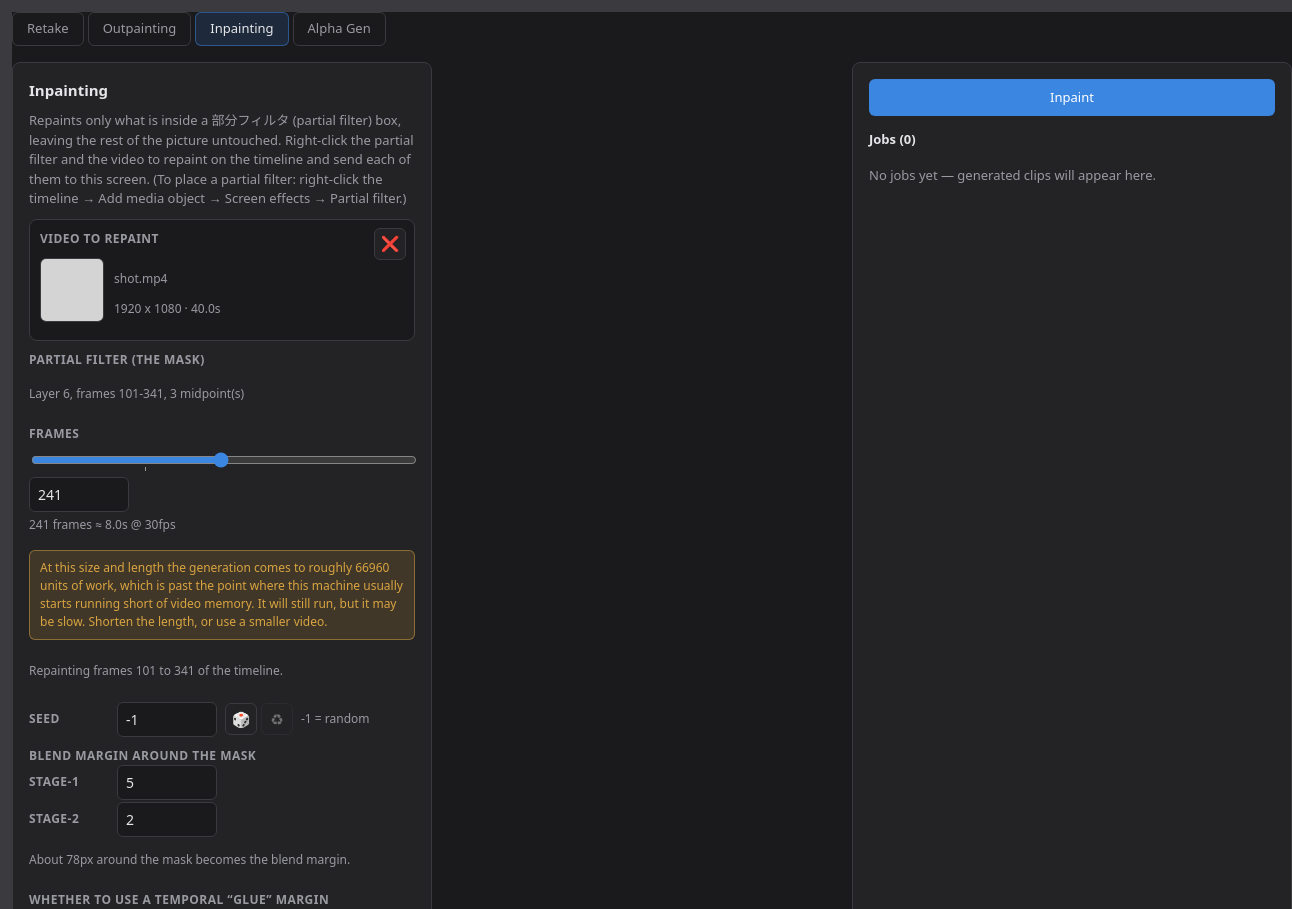
Test: EditScreen — Inpainting の Generate › マスクが作れなければ席も取らず送信もしない
The width and height of the screenshot is (1292, 909).
Click the button "Inpaint" at {"x": 1072, "y": 97}, box [869,78,1275,116]
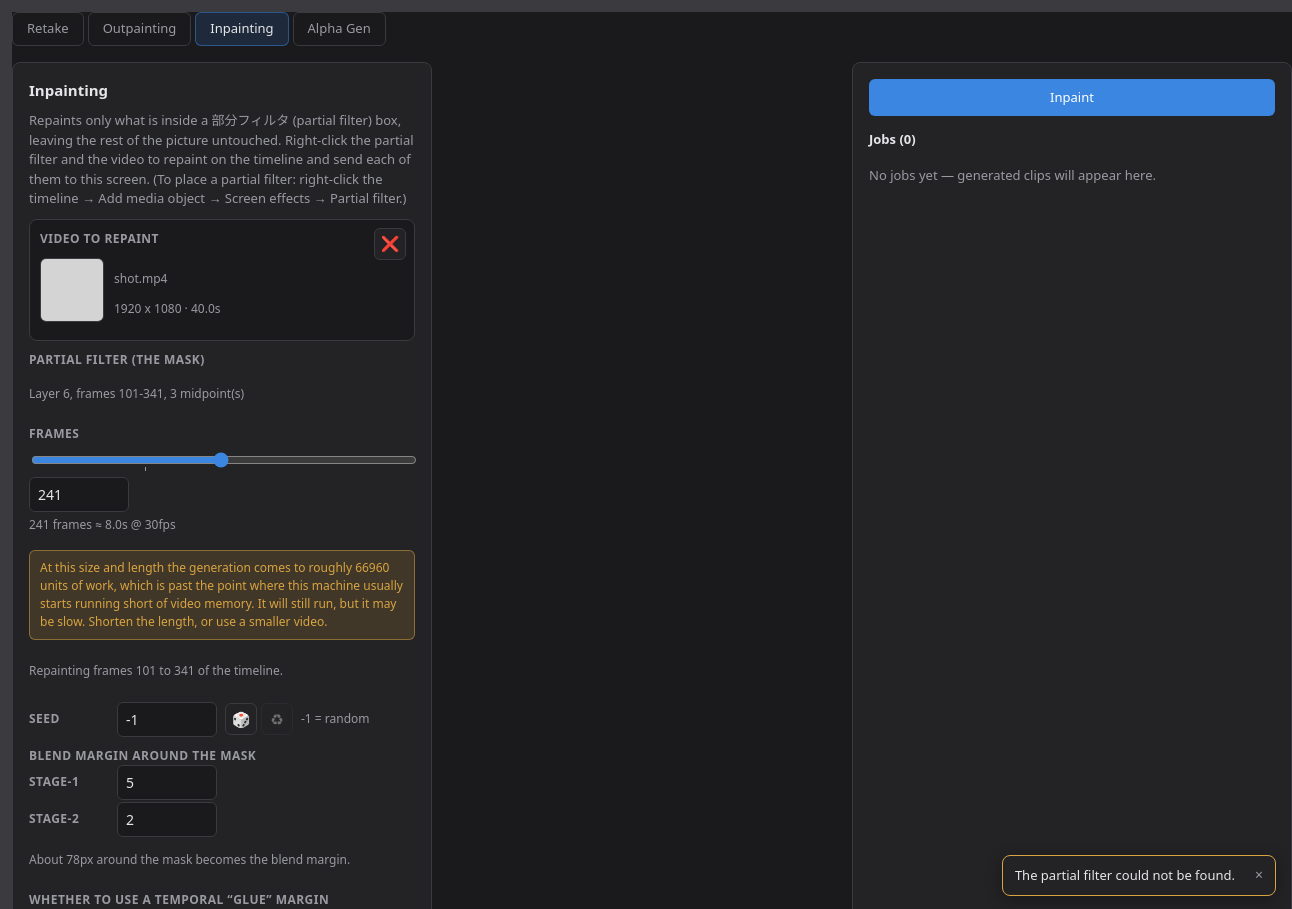
Expected: the button "The partial filter could not be found." is shown, [1007,860,1239,891]
